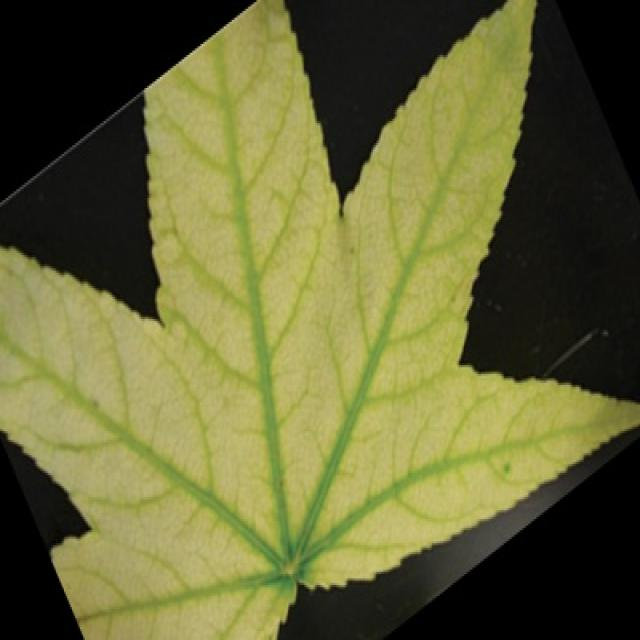Chlorosis: (15, 13, 589, 628)
